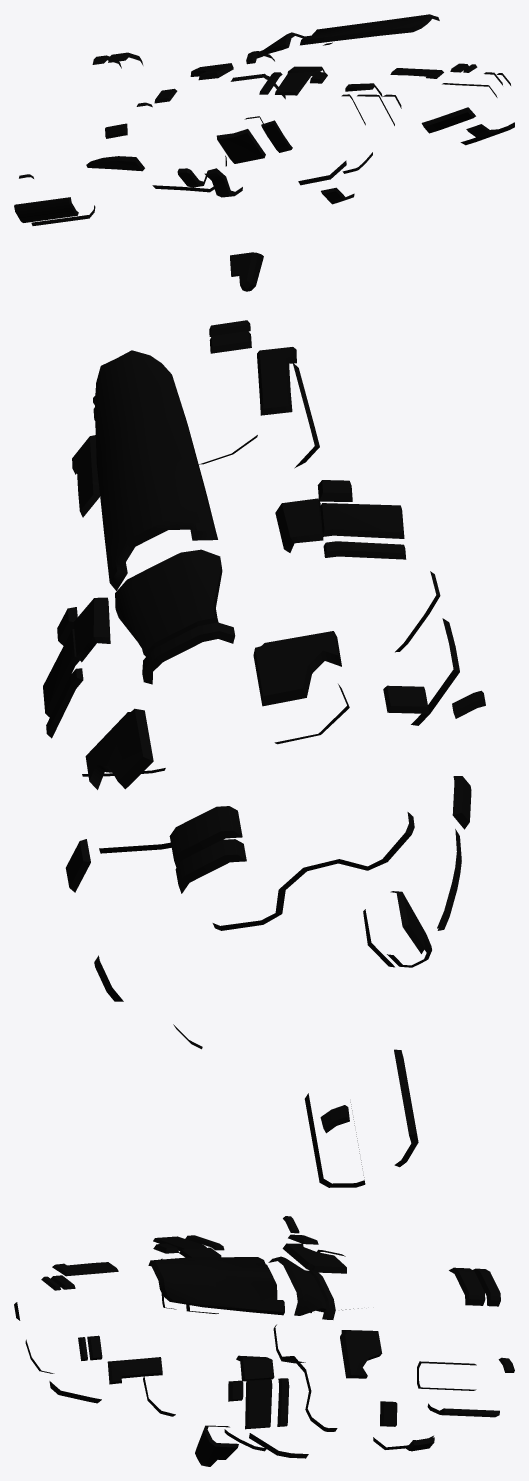
File: prop_static_ama_shipwreck_02_01.glb
3 views of the same model, one above another, from view 1: azimuth 30°, elevation 25°; view 2: azimuth 150°, elevation 25°; view 3: azimuth 270°, elevation 25° (orthographic). The views are drawn at different scales.
Visible parts, largest first — view 1: ama_ship_wreck_02_01_LOD0; view 2: ama_ship_wreck_02_01_LOD0; view 3: ama_ship_wreck_02_01_LOD0.
Part boxes in pixels (left/top/right/bottom): ama_ship_wreck_02_01_LOD0: left=14, top=14, right=514, bottom=291; ama_ship_wreck_02_01_LOD0: left=43, top=320, right=485, bottom=1187; ama_ship_wreck_02_01_LOD0: left=14, top=1216, right=514, bottom=1466.
Size of what is drawn, in the model's own units: 4.38 by 3.22 by 4.95.
Materials: 1 (1 with a texture image).
